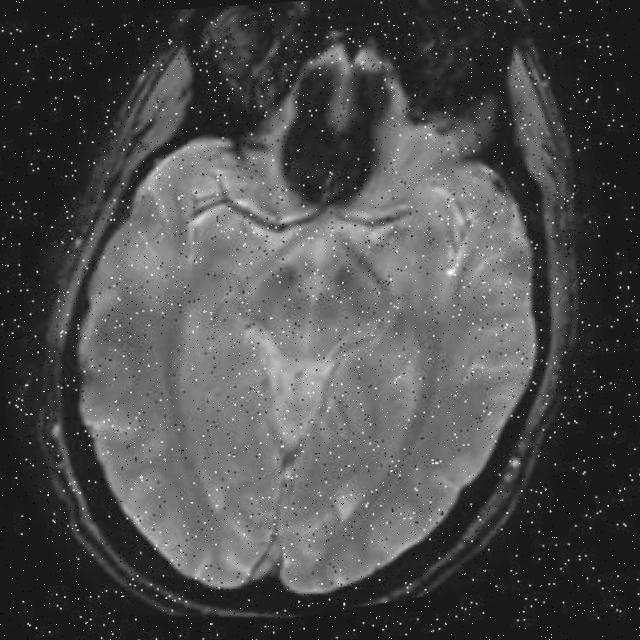MCI: (247, 18, 438, 236)
